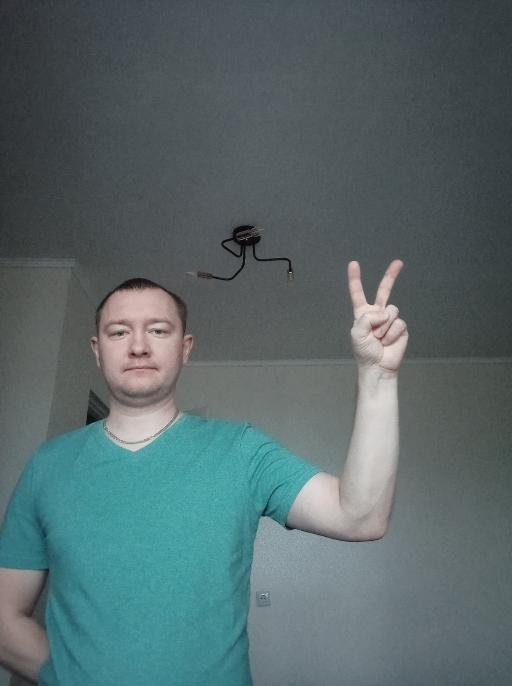peace: (343, 255, 411, 377)
